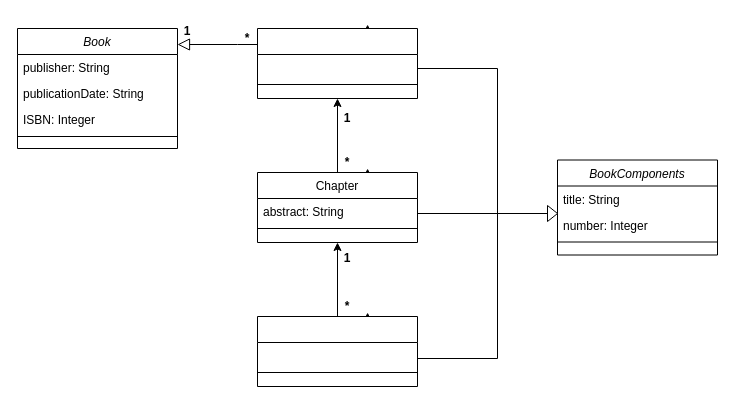
This 735x404 diagram has some shape labels left out. The shapes that lost their labels are listed below. From the top down, each one's centre as x and y in pixels, then its label:
At [337,63]: "Part".
At [337,351]: "Section".
